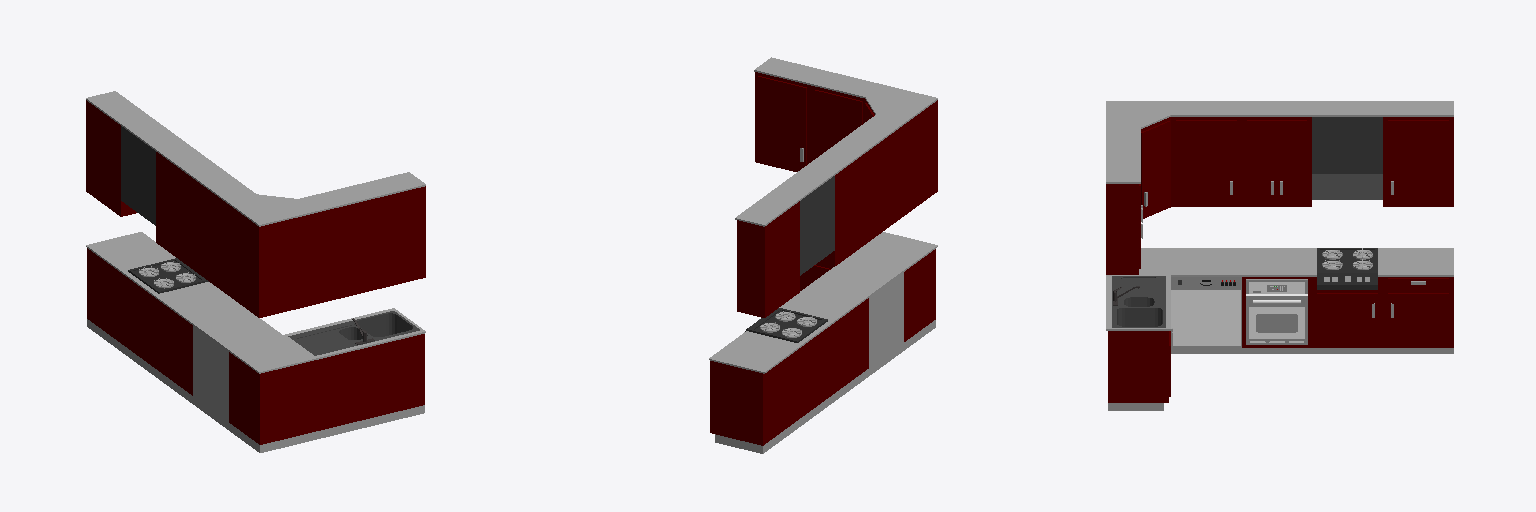
File: kitchen.obj
3 views of the same model, side by side, from view 1: azimuth 30°, elevation 25°; view 2: azimuth 150°, elevation 25°; view 3: azimuth 270°, elevation 25° (orthographic).
Parts seen in each view (by area): view 1: Group_046, Group_002, Lumber_2x4_12feet_036, Lumber_2x4_12feet_040, Lumber_2x4_12feet_035, Lumber_2x4_12feet_034, Lumber_2x4_12feet_026, Lumber_2x4_12feet_031, P_sink_kitchen1_001, Group_045, Lumber_2x4_12feet_007, Lumber_2x4_12feet_010 (+17 smaller); view 2: Lumber_2x4_12feet_007, Lumber_2x4_12feet_034, Lumber_2x4_12feet_014, Lumber_2x4_12feet_026, Lumber_2x4_12feet_031, Group_046, Group_045, Lumber_2x4_12feet_004, Lumber_2x4_12feet_010, Lumber_2x4_12feet_001, Lumber_2x4_12feet_036, Lumber_2x4_12feet_009 (+15 smaller); view 3: Group_045, Lumber_2x4_12feet_017, Lumber_2x4_12feet_033, Dishwasher_UnderCounter_28in_001, Group_002, Wall_Oven_24in_001, Lumber_2x4_12feet_022, Lumber_2x4_12feet_015, Lumber_2x4_12feet_035, P_sink_kitchen1_001, Lumber_2x4_12feet_025, Lumber_2x4_12feet_021 (+21 smaller).
Boxes of the visible parts, <box> form: Group_046: <box>227,204,314,317</box>; Group_002: <box>314,334,424,431</box>; Lumber_2x4_12feet_036: <box>229,352,313,444</box>; Lumber_2x4_12feet_040: <box>315,200,370,304</box>; Lumber_2x4_12feet_035: <box>371,186,425,290</box>; Lumber_2x4_12feet_034: <box>86,100,136,216</box>; Lumber_2x4_12feet_026: <box>156,152,191,268</box>; Lumber_2x4_12feet_031: <box>192,178,226,293</box>; P_sink_kitchen1_001: <box>288,311,419,355</box>; Group_045: <box>121,126,155,225</box>; Lumber_2x4_12feet_007: <box>87,248,122,344</box>; Lumber_2x4_12feet_010: <box>193,326,228,421</box>; Lumber_2x4_12feet_007: <box>710,350,797,445</box>; Lumber_2x4_12feet_034: <box>737,201,799,317</box>; Lumber_2x4_12feet_014: <box>758,76,806,169</box>; Lumber_2x4_12feet_026: <box>819,149,870,265</box>; Lumber_2x4_12feet_031: <box>871,124,905,239</box>; Group_046: <box>866,100,937,214</box>; Group_045: <box>800,176,834,275</box>; Lumber_2x4_12feet_004: <box>798,324,833,419</box>; Lumber_2x4_12feet_010: <box>869,272,903,367</box>; Lumber_2x4_12feet_001: <box>834,298,868,393</box>; Lumber_2x4_12feet_036: <box>904,249,935,341</box>; Lumber_2x4_12feet_009: <box>709,333,799,373</box>; Group_045: <box>1312,117,1382,199</box>; Lumber_2x4_12feet_017: <box>1388,120,1448,203</box>; Lumber_2x4_12feet_033: <box>1176,120,1236,203</box>; Dishwasher_UnderCounter_28in_001: <box>1171,277,1241,345</box>; Group_002: <box>1108,331,1168,402</box>; Wall_Oven_24in_001: <box>1246,279,1307,344</box>; Lumber_2x4_12feet_022: <box>1317,293,1377,344</box>; Lumber_2x4_12feet_015: <box>1388,293,1448,344</box>; Lumber_2x4_12feet_035: <box>1106,184,1138,274</box>; P_sink_kitchen1_001: <box>1112,276,1165,327</box>; Lumber_2x4_12feet_025: <box>1277,120,1306,203</box>; Lumber_2x4_12feet_021: <box>1247,120,1276,203</box>.
Size of the model in its own units: 1.91 by 2.51 by 3.44.